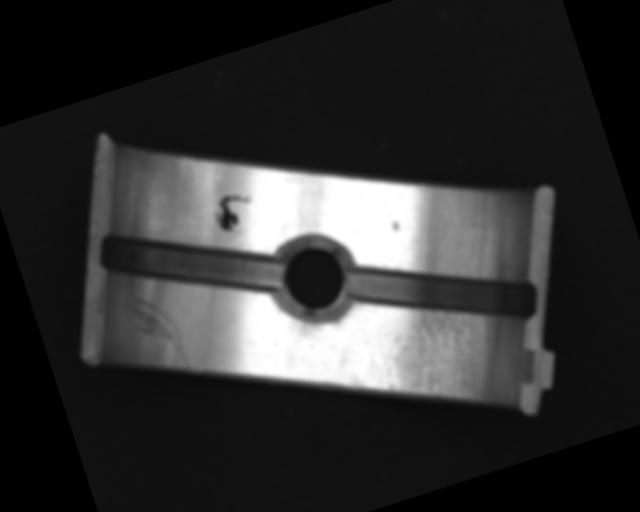blot: (209, 187, 260, 235)
bruise: (389, 218, 402, 233)
gap: (345, 217, 543, 367), (91, 187, 288, 337)
hole: (265, 228, 362, 325)
nick: (122, 284, 195, 385)
scratch: (341, 294, 510, 432)
